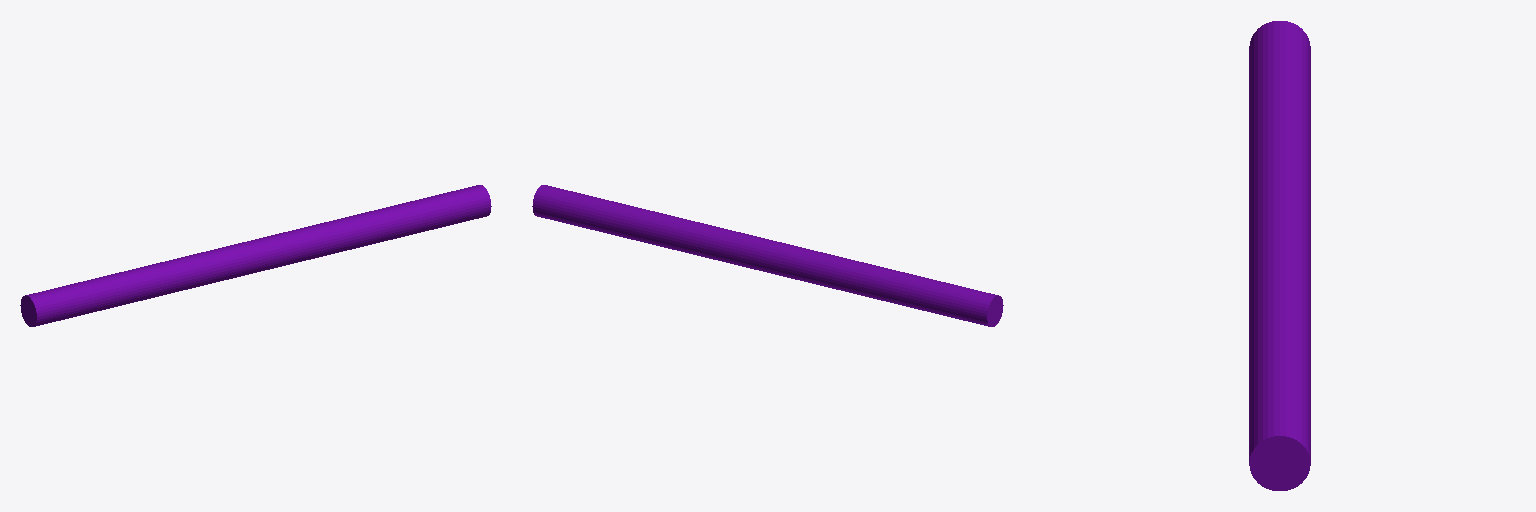
The robot description file, URDF, robot "panda":
<?xml version="1.0" ?>
<robot name="panda" xmlns:xacro="http://www.ros.org/wiki/xacro">
  <material name="purple">
    <color rgba="0.5 0.1 0.7 1"/>
  </material>
  <link name="panda_link0">
    <visual>
      <geometry>
        <mesh filename="package://franka_description/meshes/visual/link0.dae"/>
      </geometry>
    </visual>
    <collision>
      <geometry>
        <mesh filename="package://franka_description/meshes/collision/link0.obj"/>
      </geometry>
    </collision>
  </link>
  <link name="panda_link1">
    <visual>
      <geometry>
        <mesh filename="package://franka_description/meshes/visual/link1.dae"/>
      </geometry>
    </visual>
    <collision>
      <geometry>
        <mesh filename="package://franka_description/meshes/collision/link1.obj"/>
      </geometry>
    </collision>
  </link>
  <joint name="panda_joint1" type="revolute">
    <safety_controller k_position="100.0" k_velocity="40.0" soft_lower_limit="-2.8973" soft_upper_limit="2.8973"/>
    <origin rpy="0 0 0" xyz="0 0 0.333"/>
    <parent link="panda_link0"/>
    <child link="panda_link1"/>
    <axis xyz="0 0 1"/>
    <dynamics damping="10.0"/>
    <limit effort="87" lower="-2.8973" upper="2.8973" velocity="2.1750"/>
  </joint>
  <link name="panda_link2">
    <visual>
      <geometry>
        <mesh filename="package://franka_description/meshes/visual/link2.dae"/>
      </geometry>
    </visual>
    <collision>
      <geometry>
        <mesh filename="package://franka_description/meshes/collision/link2.obj"/>
      </geometry>
    </collision>
  </link>
  <joint name="panda_joint2" type="revolute">
    <safety_controller k_position="100.0" k_velocity="40.0" soft_lower_limit="-1.7628" soft_upper_limit="1.7628"/>
    <origin rpy="-1.57079632679 0 0" xyz="0 0 0"/>
    <parent link="panda_link1"/>
    <child link="panda_link2"/>
    <axis xyz="0 0 1"/>
    <dynamics damping="10.0"/>
    <limit effort="87" lower="-1.7628" upper="1.7628" velocity="2.1750"/>
  </joint>
  <link name="panda_link3">
    <visual>
      <geometry>
        <mesh filename="package://franka_description/meshes/visual/link3.dae"/>
      </geometry>
    </visual>
    <collision>
      <geometry>
        <mesh filename="package://franka_description/meshes/collision/link3.obj"/>
      </geometry>
    </collision>
  </link>
  <joint name="panda_joint3" type="revolute">
    <safety_controller k_position="100.0" k_velocity="40.0" soft_lower_limit="-2.8973" soft_upper_limit="2.8973"/>
    <origin rpy="1.57079632679 0 0" xyz="0 -0.316 0"/>
    <parent link="panda_link2"/>
    <child link="panda_link3"/>
    <axis xyz="0 0 1"/>
    <dynamics damping="10.0"/>
    <limit effort="87" lower="-2.8973" upper="2.8973" velocity="2.1750"/>
  </joint>
  <link name="panda_link4">
    <visual>
      <geometry>
        <mesh filename="package://franka_description/meshes/visual/link4.dae"/>
      </geometry>
    </visual>
    <collision>
      <geometry>
        <mesh filename="package://franka_description/meshes/collision/link4.obj"/>
      </geometry>
    </collision>
  </link>
  <joint name="panda_joint4" type="revolute">
    <safety_controller k_position="100.0" k_velocity="40.0" soft_lower_limit="-3.0718" soft_upper_limit="-0.0698"/>
    <origin rpy="1.57079632679 0 0" xyz="0.0825 0 0"/>
    <parent link="panda_link3"/>
    <child link="panda_link4"/>
    <axis xyz="0 0 1"/>    
    <dynamics damping="10.0"/>
    <limit effort="87" lower="-3.0718" upper="-0.0698" velocity="2.1750"/>
    <!-- something is weird with this joint limit config
    <dynamics damping="10.0"/>
    <limit effort="87" lower="-3.0" upper="0.087" velocity="2.1750"/>  -->
  </joint>
  <link name="panda_link5">
    <visual>
      <geometry>
        <mesh filename="package://franka_description/meshes/visual/link5.dae"/>
      </geometry>
    </visual>
    <collision>
      <geometry>
        <mesh filename="package://franka_description/meshes/collision/link5.obj"/>
      </geometry>
    </collision>
  </link>
  <joint name="panda_joint5" type="revolute">
    <safety_controller k_position="100.0" k_velocity="40.0" soft_lower_limit="-2.8973" soft_upper_limit="2.8973"/>
    <origin rpy="-1.57079632679 0 0" xyz="-0.0825 0.384 0"/>
    <parent link="panda_link4"/>
    <child link="panda_link5"/>
    <axis xyz="0 0 1"/>
    <dynamics damping="10.0"/>
    <limit effort="12" lower="-2.8973" upper="2.8973" velocity="2.6100"/>
  </joint>
  <link name="panda_link6">
    <visual>
      <geometry>
        <mesh filename="package://franka_description/meshes/visual/link6.dae"/>
      </geometry>
    </visual>
    <collision>
      <geometry>
        <mesh filename="package://franka_description/meshes/collision/link6.obj"/>
      </geometry>
    </collision>
  </link>
  <joint name="panda_joint6" type="revolute">
    <safety_controller k_position="100.0" k_velocity="40.0" soft_lower_limit="-0.0175" soft_upper_limit="3.7525"/>
    <origin rpy="1.57079632679 0 0" xyz="0 0 0"/>
    <parent link="panda_link5"/>
    <child link="panda_link6"/>
    <axis xyz="0 0 1"/>
    <dynamics damping="10.0"/>
    <limit effort="12" lower="-0.0175" upper="3.7525" velocity="2.6100"/>
    <!-- <dynamics damping="10.0"/>
    <limit effort="12" lower="-0.0873" upper="3.0" velocity="2.6100"/> -->
  </joint>
  <link name="panda_link7">
    <visual>
      <geometry>
        <mesh filename="package://franka_description/meshes/visual/link7.dae"/>
      </geometry>
    </visual>
    <collision>
      <geometry>
        <mesh filename="package://franka_description/meshes/collision/link7.obj"/>
      </geometry>
    </collision>
  </link>
  <joint name="panda_joint7" type="revolute">
    <safety_controller k_position="100.0" k_velocity="40.0" soft_lower_limit="-2.8973" soft_upper_limit="2.8973"/>
    <origin rpy="1.57079632679 0 0" xyz="0.088 0 0"/>
    <parent link="panda_link6"/>
    <child link="panda_link7"/>
    <axis xyz="0 0 1"/>
    <dynamics damping="10.0"/>
    <limit effort="12" lower="-2.8973" upper="2.8973" velocity="2.6100"/>
  </joint>

  <link name="panda_ee_finger">
    <visual>
      <geometry>
        <cylinder length="0.32" radius="0.01"/>
      </geometry>
      <origin rpy="0 0 0" xyz="0 0 0.16"/>
      <material name="purple"/>
    </visual>
    <collision>
      <geometry>
        <cylinder length="0.32" radius="0.01"/>
      </geometry>
      <origin rpy="0 0 0" xyz="0 0 0.16"/>
    </collision>
  </link>
  <joint name="panda_ee_finger" type="fixed">
    <origin rpy="0 0 0" xyz="0 0 0.107"/>
    <parent link="panda_link7"/>
    <child link="panda_ee_finger"/>
    <axis xyz="0 0 0"/>
  </joint>
  <link name="panda_ee_tip">
  </link>
  <joint name="panda_ee_tip" type="fixed">
    <origin rpy="0 0 0" xyz="0 0 0.32"/>
    <parent link="panda_ee_finger"/>
    <child link="panda_ee_tip"/>
    <axis xyz="0 0 0"/>
  </joint>
</robot>

--- What the picture shows (computed from the rendered views, not written in the file) ---
Views: 3 orthographic renders of the robot side by side, from view 1: azimuth 30°, elevation 25°; view 2: azimuth 150°, elevation 25°; view 3: azimuth 270°, elevation 25°.
Model panda with 10 links and 9 joints (7 revolute, 2 fixed), rooted at panda_link0, posed joints at zero except 1 at the middle of their limits (panda_joint4 = -1.57).
Links seen in each view (by area): view 1: panda_ee_finger; view 2: panda_ee_finger; view 3: panda_ee_finger.
Boxes of the visible links, bbox=[...] form: panda_ee_finger: bbox=[20, 185, 491, 326]; panda_ee_finger: bbox=[532, 185, 1003, 326]; panda_ee_finger: bbox=[1249, 21, 1310, 490].
Bounding box of the posed robot: 0.32 × 0.02 × 0.02 m (x, y, z).
0 mesh visuals loaded from 8 distinct referenced files (none loaded); not drawn: 8 (reference not matched to a file when rendering).